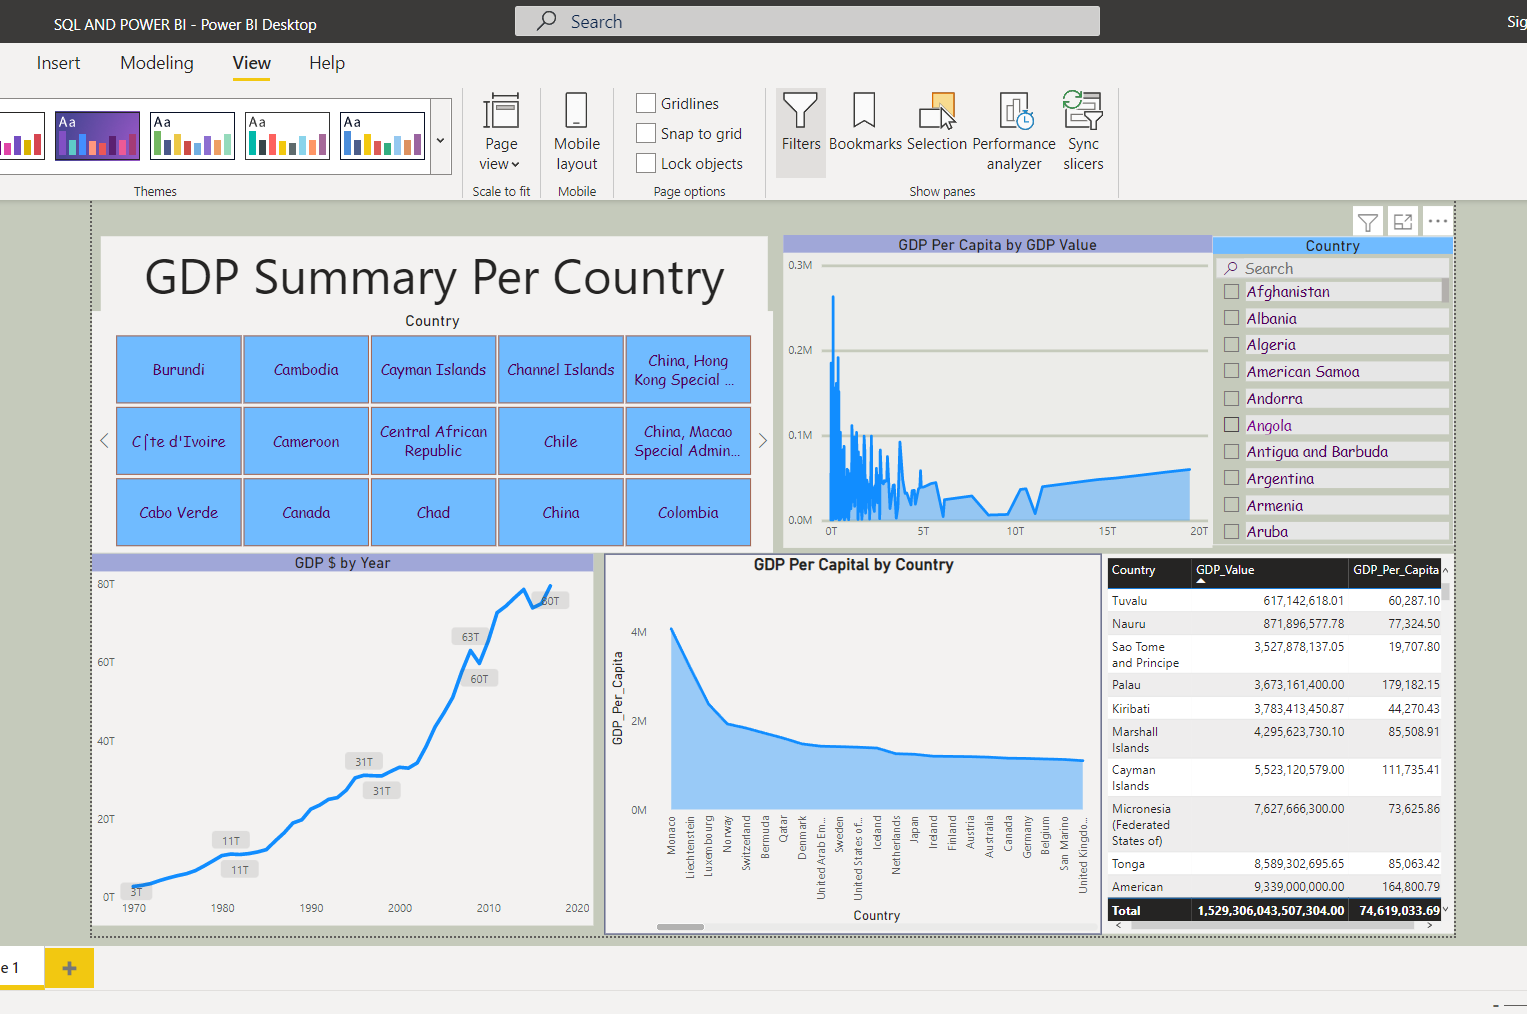

What the dashboard file says about the page in this screenshot:
{"tool":"powerbi","page":{"name":"Page 1","canvas":[1480,800],"ordinal":0},"visuals":[{"type":"textbox","box":[0,0,751.1,86.9],"z":1000},{"type":"shape","box":[0,122,734.6,18],"z":2000},{"type":"slicer","title":"Country","fields":{"Values":["GDP_Excel_Input.Country"]},"box":[0,86.9,751.1,290.7],"z":3000},{"type":"slicer","title":"Country","fields":{"Values":["GDP_Excel_Input.Country"]},"box":[1217,0,263.5,384.4],"z":4000},{"type":"lineChart","title":"GDP $  by Year","fields":{"Category":["GDP_Excel_Input.Year_No"],"Y":["Sum(GDP_Excel_Input.GDP_Value)"]},"box":[0,374.9,554.2,422.4],"z":5000},{"type":"tableEx","fields":{"Values":["GDP_Excel_Input.Country","Sum(GDP_Excel_Input.GDP_Value)","Sum(GDP_Excel_Input.GDP_Per_Capita)"]},"box":[1097.5,374.9,383,422.4],"z":6000},{"type":"stackedAreaChart","title":"GDP Per Capital by Country","fields":{"Category":["GDP_Excel_Input.Country"],"Y":["Sum(GDP_Excel_Input.GDP_Per_Capita)"]},"box":[556.9,377.6,540.6,419.7],"z":7000},{"type":"stackedAreaChart","title":"GDP Per Capita by GDP Value","fields":{"Category":["GDP_Excel_Input.GDP_Value"],"Y":["Sum(GDP_Excel_Input.GDP_Per_Capita)"]},"box":[751.1,0,465.9,377.6],"z":8000}]}

Visuals, with their boxes on the page's 1480x800 design canvas (x1, y1, x2, y2). These are canvas units, not pixel positions in the 1527x1014 screenshot, which may show the page scaled, cropped or inside an application window:
textbox: select_region(0, 0, 751, 87)
shape: select_region(0, 122, 735, 140)
"Country" slicer: select_region(0, 87, 751, 378)
"Country" slicer: select_region(1217, 0, 1480, 384)
"GDP $  by Year" lineChart: select_region(0, 375, 554, 797)
tableEx - GDP_Excel_Input.Country x Sum(GDP_Excel_Input.GDP_Value): select_region(1098, 375, 1480, 797)
"GDP Per Capital by Country" stackedAreaChart: select_region(557, 378, 1098, 797)
"GDP Per Capita by GDP Value" stackedAreaChart: select_region(751, 0, 1217, 378)
